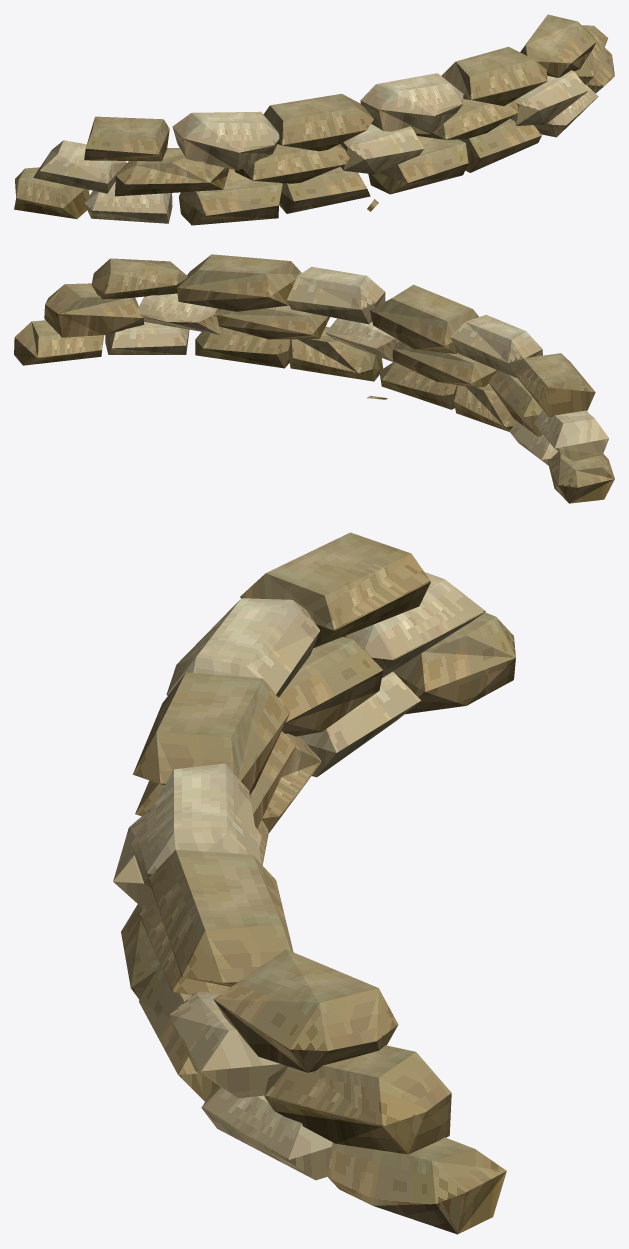
File: C2SMTSNDB2H.obj
The picture shows the model from 3 angles, top to bottom: view 1: azimuth 30°, elevation 25°; view 2: azimuth 150°, elevation 25°; view 3: azimuth 270°, elevation 25°; orthographic projection. The views are drawn at different scales.
Visible parts, largest first — view 1: Node 7, Node 6, Node 8, Node 5; view 2: Node 8, Node 7, Node 6, Node 5; view 3: Node 8, Node 7, Node 5, Node 6.
Part boxes in pixels (x1,y1,x2,y2): Node 7: (263,73,541,194); Node 6: (115,111,370,225); Node 8: (441,14,614,137); Node 5: (14,116,172,223); Node 8: (14,254,301,365); Node 7: (195,266,478,381); Node 6: (379,315,542,436); Node 5: (509,353,614,503); Node 8: (148,849,506,1234); Node 7: (113,672,290,1101); Node 5: (240,532,515,777); Node 6: (135,598,383,865).
Size of the model in its own units: 6.98 by 1.29 by 2.04.
9 materials, 9 textured.
